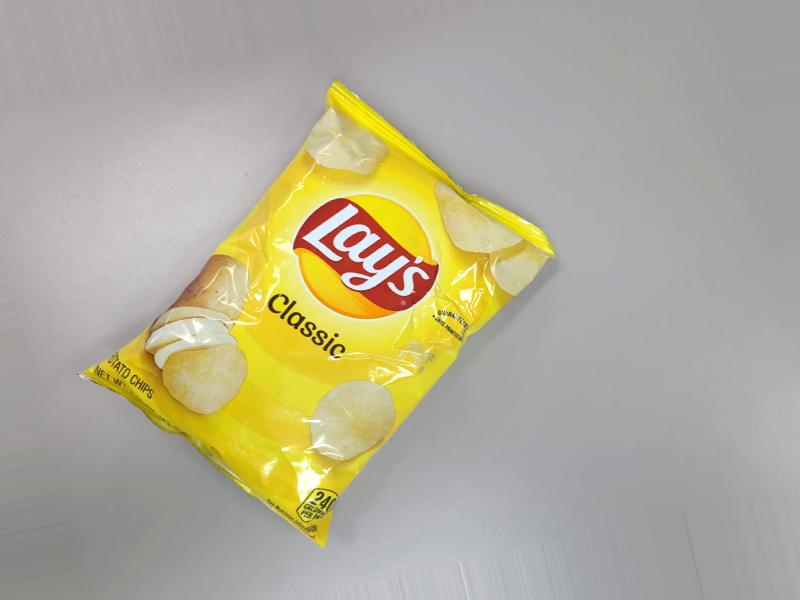lays: (133, 123, 550, 540)
